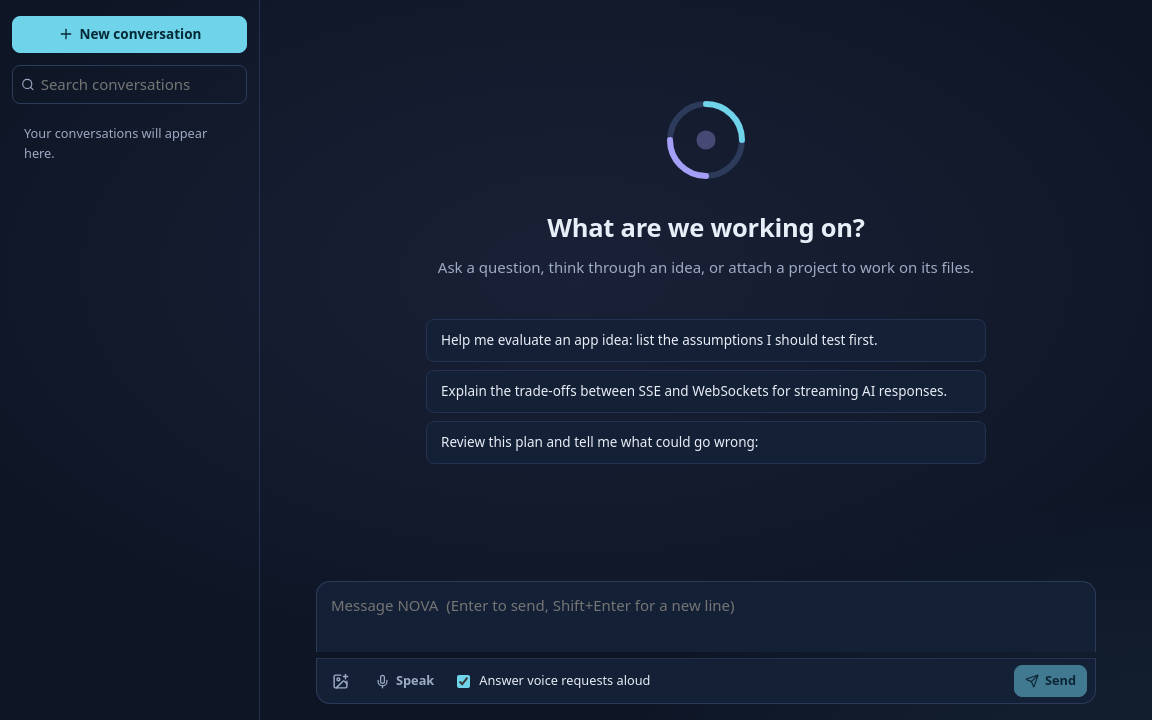
Test: conversation › shows the empty state with starter prompts
The width and height of the screenshot is (1152, 720).
Check: the heading "What are we working on?" is shown, box x1=547 y1=212 x2=865 y2=244
Step 1. Click the button "Help me evaluate" → (706, 341), box x1=426 y1=319 x2=986 y2=362
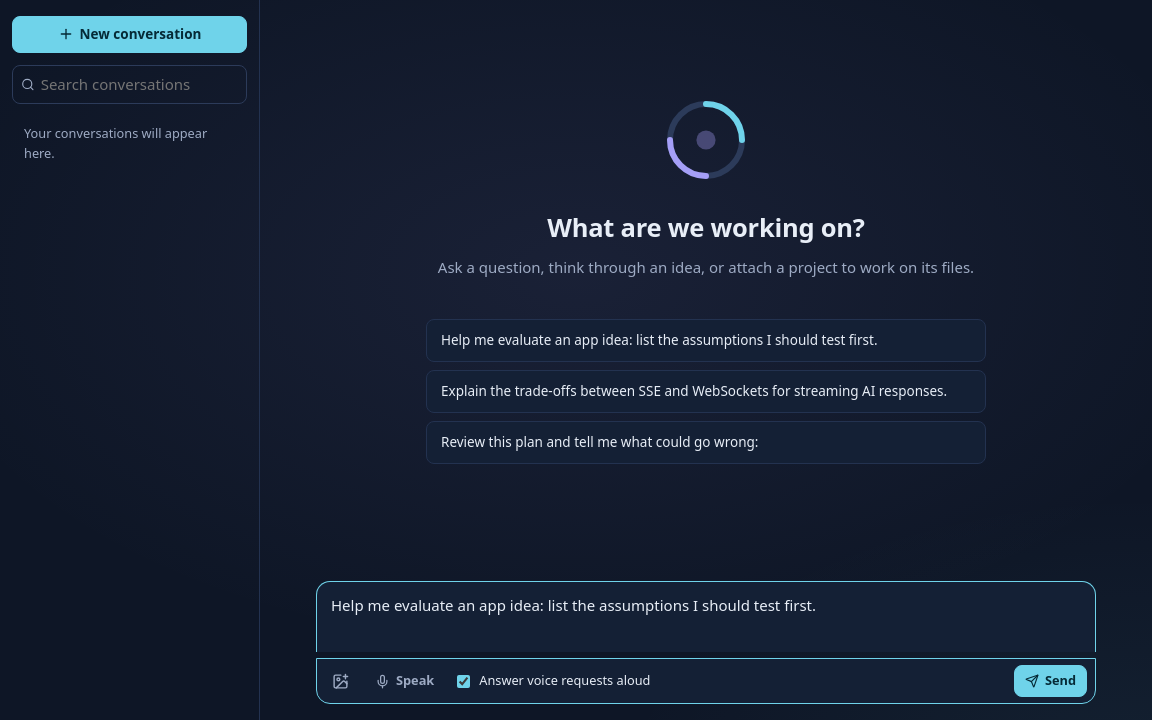
Check: the text box named "Message NOVA" holds "Help me evaluate an app idea: list the assumptions I should test first.", box x1=316 y1=580 x2=1096 y2=652
